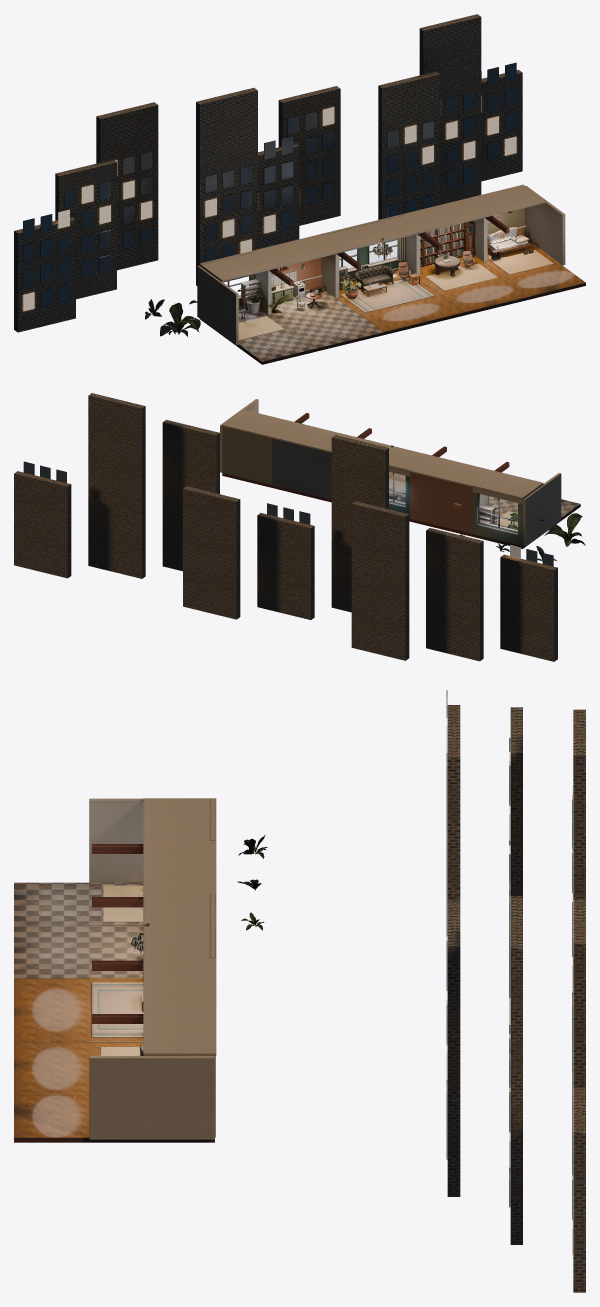
The model's file is room.glb.
3 renders of one model, top to bottom at view 1: azimuth 30°, elevation 25°; view 2: azimuth 150°, elevation 25°; view 3: azimuth 270°, elevation 25°, orthographic. The views are drawn at different scales.
Parts seen in each view (by area): view 1: s_city_outside, s_living_floor, s_kitchen_floor, s_study_floor, s_bedroom_floor, s_garden_floor, s_garden_shell, s_bedroom_shell, s_kitchen_shell, s_study_ceiling, s_kitchen_ceiling, s_living_ceiling (+10 smaller); view 2: s_city_outside, s_garden_shell, s_kitchen_shell, s_study_shell, s_bedroom_shell, s_kitchen_ceiling, s_study_ceiling, s_bedroom_ceiling, s_garden_ceiling, s_garden_furniture, s_living_ceiling, s_garden_floor (+2 smaller); view 3: s_city_outside, s_bedroom_shell, s_living_floor, s_kitchen_floor, s_garden_floor, s_kitchen_ceiling, s_study_ceiling, s_study_floor, s_living_ceiling, s_garden_shell, s_bedroom_floor, s_bedroom_ceiling (+1 smaller).
Boxes of the visible parts, bbox=[...] form: s_city_outside: bbox=[14, 14, 522, 332]; s_living_floor: bbox=[338, 269, 464, 334]; s_kitchen_floor: bbox=[269, 291, 383, 351]; s_study_floor: bbox=[420, 255, 531, 315]; s_bedroom_floor: bbox=[486, 242, 585, 298]; s_garden_floor: bbox=[200, 308, 316, 364]; s_garden_shell: bbox=[197, 250, 254, 345]; s_bedroom_shell: bbox=[487, 186, 565, 265]; s_kitchen_shell: bbox=[254, 254, 339, 314]; s_study_ceiling: bbox=[402, 198, 509, 249]; s_kitchen_ceiling: bbox=[254, 234, 360, 286]; s_living_ceiling: bbox=[323, 215, 424, 251]; s_city_outside: bbox=[14, 393, 557, 661]; s_garden_shell: bbox=[472, 473, 561, 546]; s_kitchen_shell: bbox=[410, 472, 489, 533]; s_study_shell: bbox=[272, 438, 331, 499]; s_bedroom_shell: bbox=[220, 399, 272, 484]; s_kitchen_ceiling: bbox=[409, 446, 509, 487]; s_study_ceiling: bbox=[272, 413, 371, 452]; s_bedroom_ceiling: bbox=[222, 409, 292, 438]; s_garden_ceiling: bbox=[472, 470, 543, 499]; s_garden_furniture: bbox=[460, 507, 585, 561]; s_living_ceiling: bbox=[353, 437, 430, 471]; s_garden_floor: bbox=[472, 499, 580, 548]; s_city_outside: bbox=[446, 690, 585, 1292]; s_bedroom_shell: bbox=[89, 1056, 215, 1139]; s_living_floor: bbox=[14, 978, 143, 1041]; s_kitchen_floor: bbox=[14, 924, 143, 978]; s_garden_floor: bbox=[14, 882, 143, 925]; s_kitchen_ceiling: bbox=[92, 841, 216, 907]; s_study_ceiling: bbox=[92, 958, 216, 1023]; s_study_floor: bbox=[14, 1041, 143, 1095]; s_living_ceiling: bbox=[143, 894, 216, 957]; s_garden_shell: bbox=[89, 798, 215, 882]; s_bedroom_floor: bbox=[14, 1095, 214, 1142]; s_bedroom_ceiling: bbox=[143, 1011, 216, 1056].
Bounding box in the file's own units: 40.3 × 13 × 22.75.
Materials: 39 (38 with a texture image).
